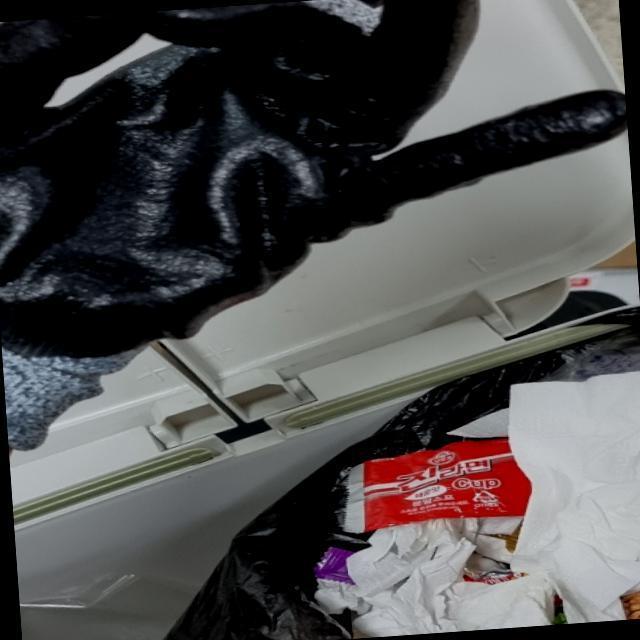Gloves: (0, 0, 632, 462)
